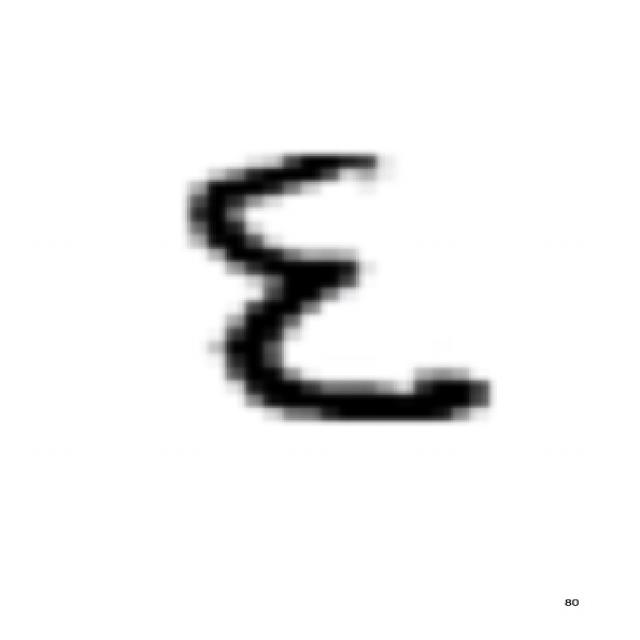4 -four-: (175, 137, 507, 437)
